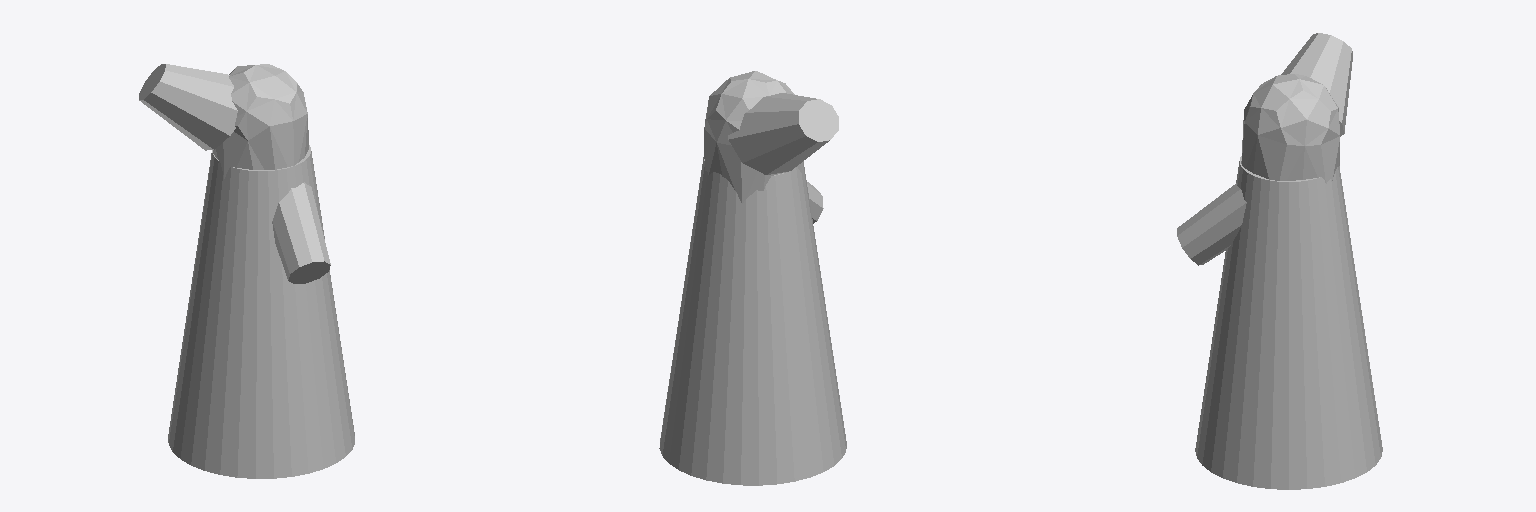
The model's file is keka_col.obj.
3 views of the same model, side by side, from view 1: azimuth 30°, elevation 25°; view 2: azimuth 150°, elevation 25°; view 3: azimuth 270°, elevation 25° (orthographic).
Bounding box in the file's own units: 0.5295 × 1.05 × 0.5156.